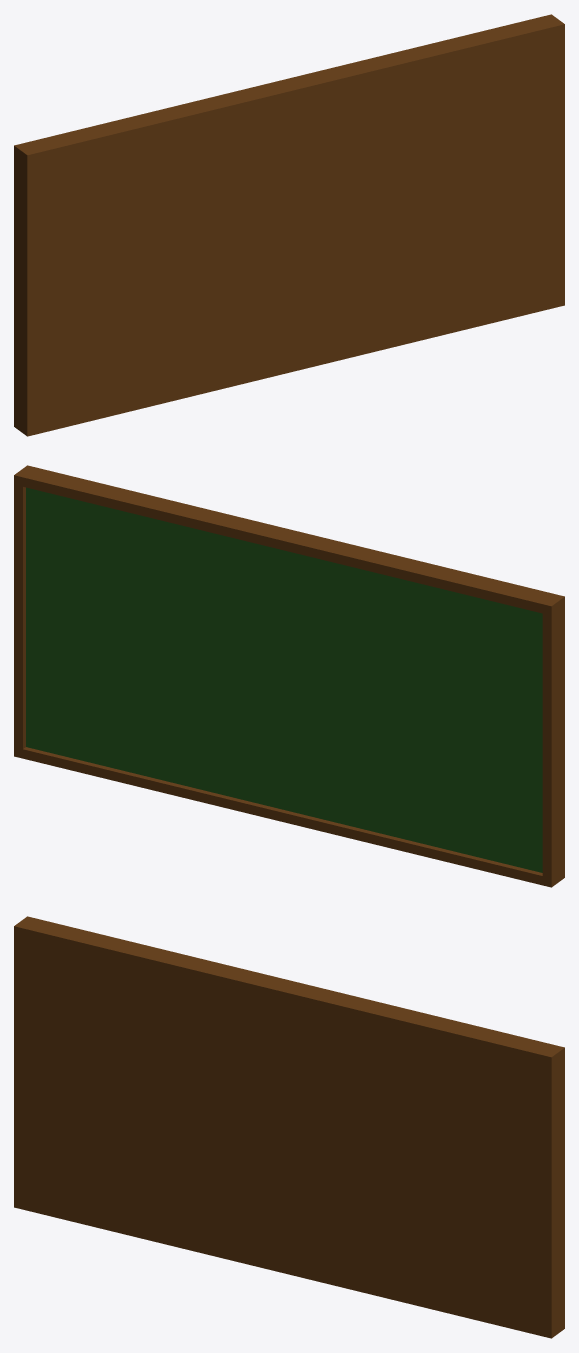
File: Board.fbx
3 renders of one model, top to bottom at view 1: azimuth 30°, elevation 25°; view 2: azimuth 150°, elevation 25°; view 3: azimuth 330°, elevation 25°, orthographic.
Visible parts, largest first — view 1: Board; view 2: Board; view 3: Board.
Part boxes in pixels (x1,y1,x2,y2): Board: [14, 14, 564, 436]; Board: [14, 465, 564, 887]; Board: [14, 916, 564, 1338].
Bounding box in the file's own units: 3 × 1.5 × 0.13.
